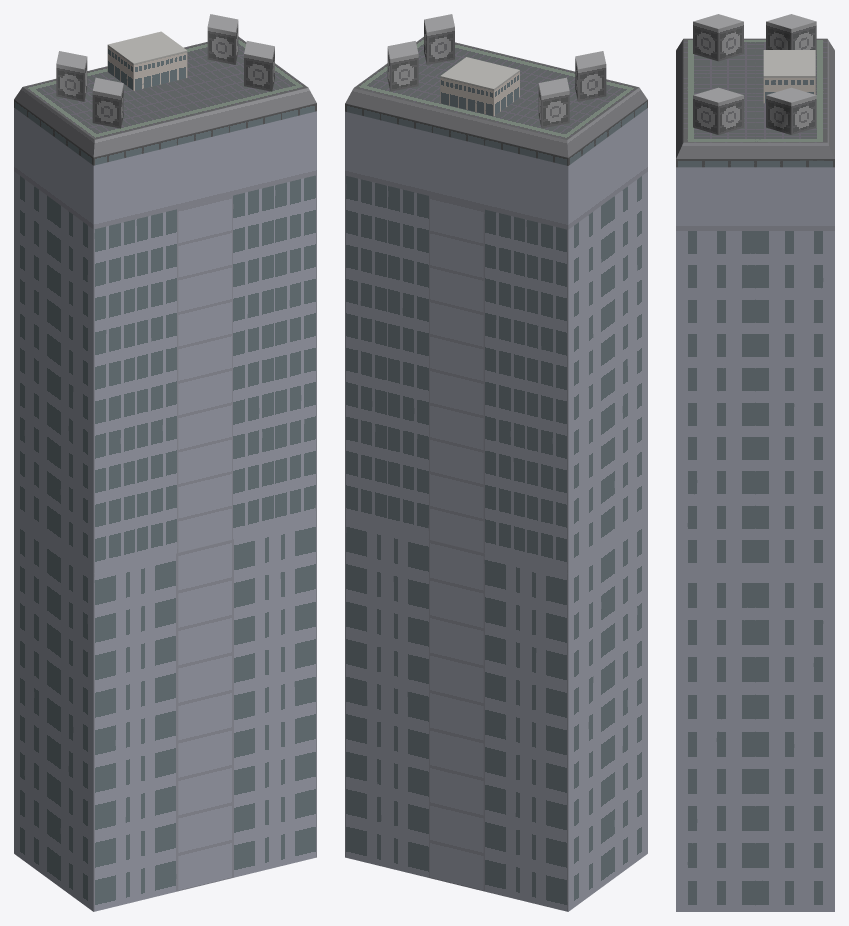
Rendered from 02ce_Brine_Building.glb.
3 views of the same model, side by side, from view 1: azimuth 30°, elevation 25°; view 2: azimuth 150°, elevation 25°; view 3: azimuth 270°, elevation 25° (orthographic).
Parts seen in each view (by area): view 1: part_0; view 2: part_0; view 3: part_0.
Part boxes in pixels (<box>): part_0: <box>14,14,316,911</box>; part_0: <box>345,14,647,911</box>; part_0: <box>676,14,834,911</box>.
Bounding box in the file's own units: 55.96 × 192 × 34.53.
Materials: 1 (1 with a texture image).
